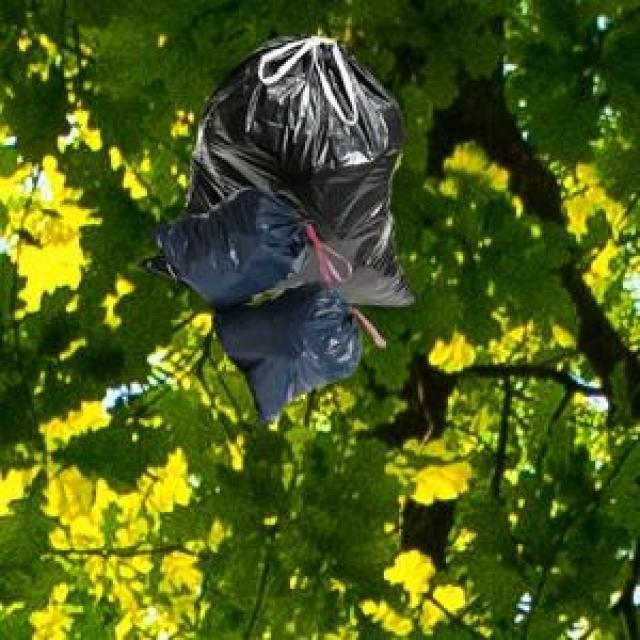waste: (156, 36, 414, 422)
